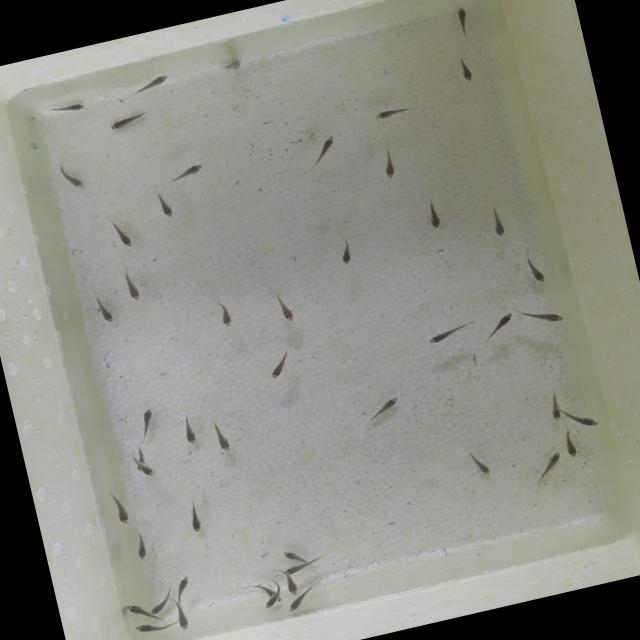fingerling: (520, 250, 552, 288), (116, 266, 146, 306), (105, 108, 152, 132), (56, 160, 88, 195), (560, 402, 596, 432), (264, 349, 297, 381), (164, 160, 208, 184), (525, 304, 565, 330), (107, 215, 135, 252), (450, 49, 478, 86), (370, 392, 408, 419), (424, 322, 469, 344), (208, 416, 234, 454), (270, 291, 298, 326), (307, 136, 338, 166), (486, 311, 520, 338), (543, 388, 568, 424), (465, 447, 494, 478), (128, 618, 172, 638), (178, 411, 201, 448), (560, 426, 584, 461), (48, 98, 87, 119), (91, 290, 115, 324), (536, 451, 566, 478), (152, 190, 176, 222), (128, 74, 170, 92), (276, 546, 308, 566), (213, 298, 233, 329), (284, 590, 312, 612), (134, 409, 156, 437), (172, 602, 192, 632), (111, 498, 132, 526), (372, 102, 408, 118), (122, 600, 147, 623), (488, 212, 508, 240), (146, 596, 172, 617), (185, 506, 204, 534), (426, 204, 446, 230), (278, 562, 312, 577), (172, 572, 194, 595), (216, 56, 242, 74), (338, 240, 354, 268), (132, 538, 149, 562), (260, 592, 280, 612), (454, 4, 469, 27), (382, 157, 396, 180), (282, 576, 298, 596), (139, 461, 153, 479)
